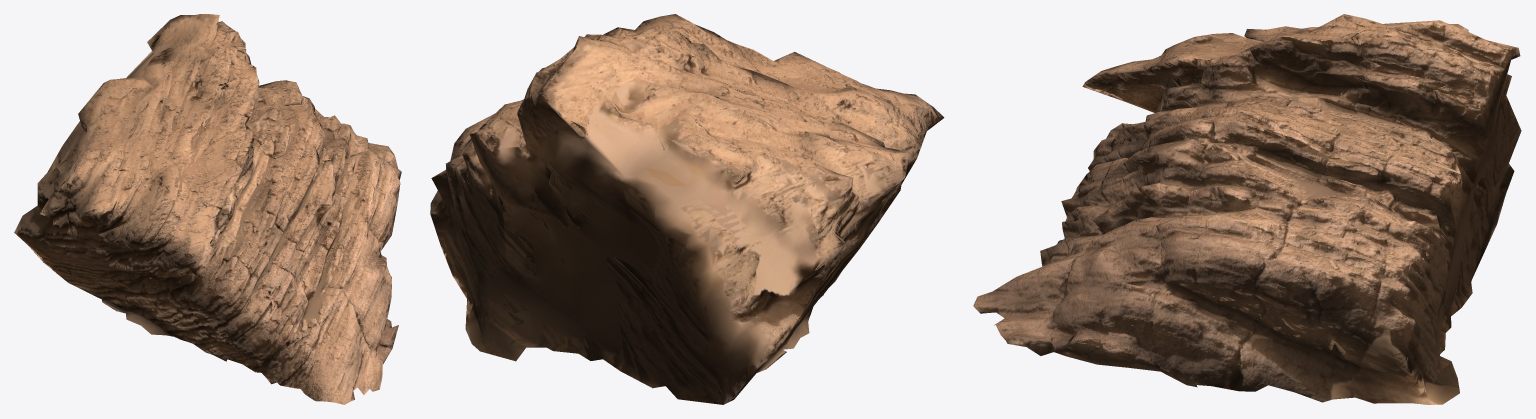
Rendered from mars-rock-bettys-bedded.glb.
3 renders of one model, left to right at view 1: azimuth 30°, elevation 25°; view 2: azimuth 150°, elevation 25°; view 3: azimuth 270°, elevation 25°, orthographic. The views are drawn at different scales.
Visible parts, largest first — view 1: mars-rock-bettys-bedded_LOD0; view 2: mars-rock-bettys-bedded_LOD0; view 3: mars-rock-bettys-bedded_LOD0.
Part boxes in pixels (x1,y1,x2,y2): mars-rock-bettys-bedded_LOD0: (14,14,401,404); mars-rock-bettys-bedded_LOD0: (430,14,944,404); mars-rock-bettys-bedded_LOD0: (973,14,1521,404).
Size of what is drawn, in the model's own units: 2.29 by 1.73 by 2.58.
Materials: 1 (1 with a texture image).
